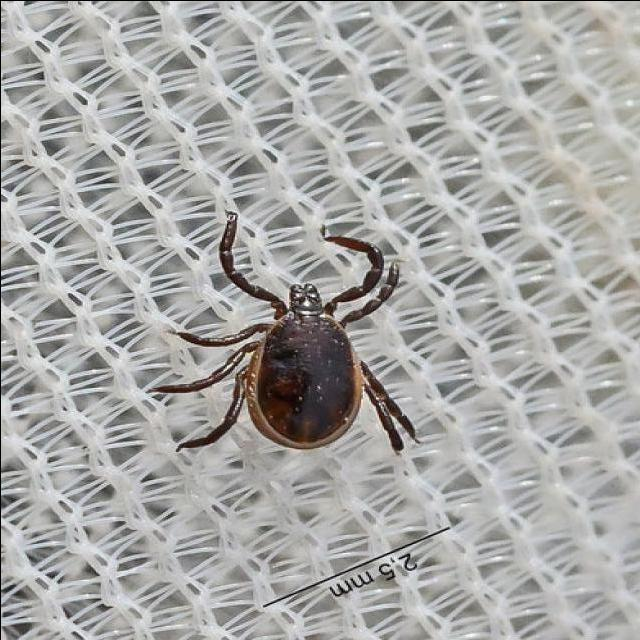Ixodes Ricinus-M: (147, 211, 414, 452)
